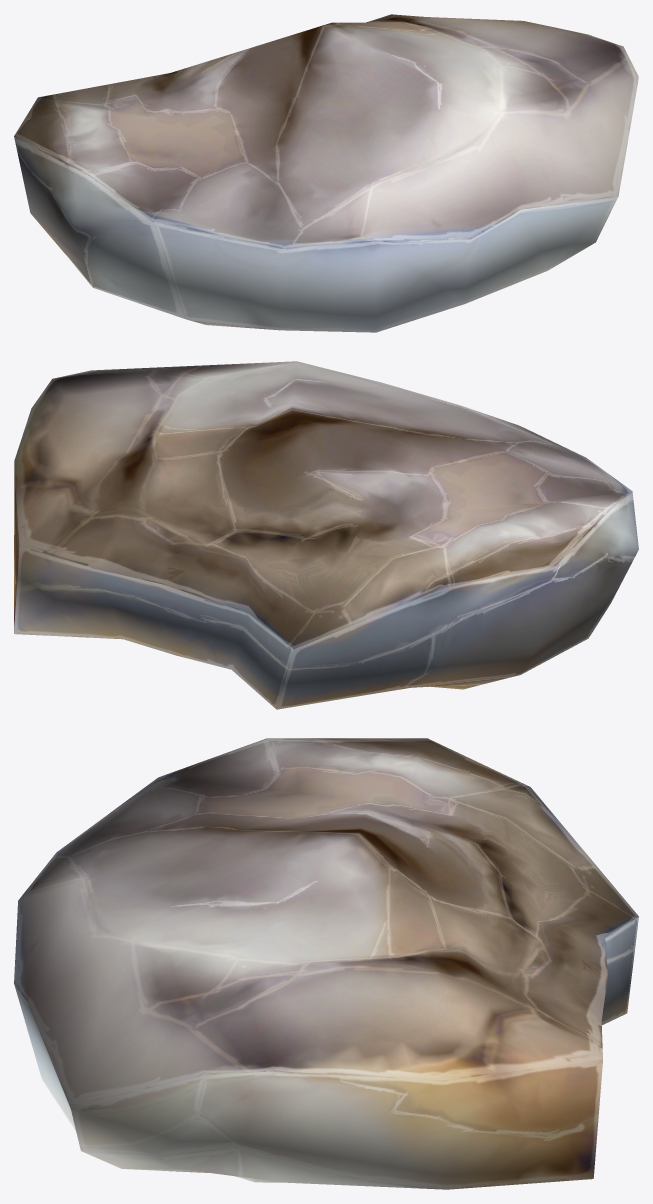
Rendered from rock_3.fbx.
3 views of the same model, one above another, from view 1: azimuth 30°, elevation 25°; view 2: azimuth 150°, elevation 25°; view 3: azimuth 270°, elevation 25° (orthographic). The views are drawn at different scales.
Visible parts, largest first — view 1: rock_3; view 2: rock_3; view 3: rock_3.
Part boxes in pixels (x1,y1,x2,y2): rock_3: (14, 14, 638, 332); rock_3: (14, 361, 638, 709); rock_3: (14, 738, 638, 1189).
Bounding box in the file's own units: 3.41 × 1.36 × 2.64.
